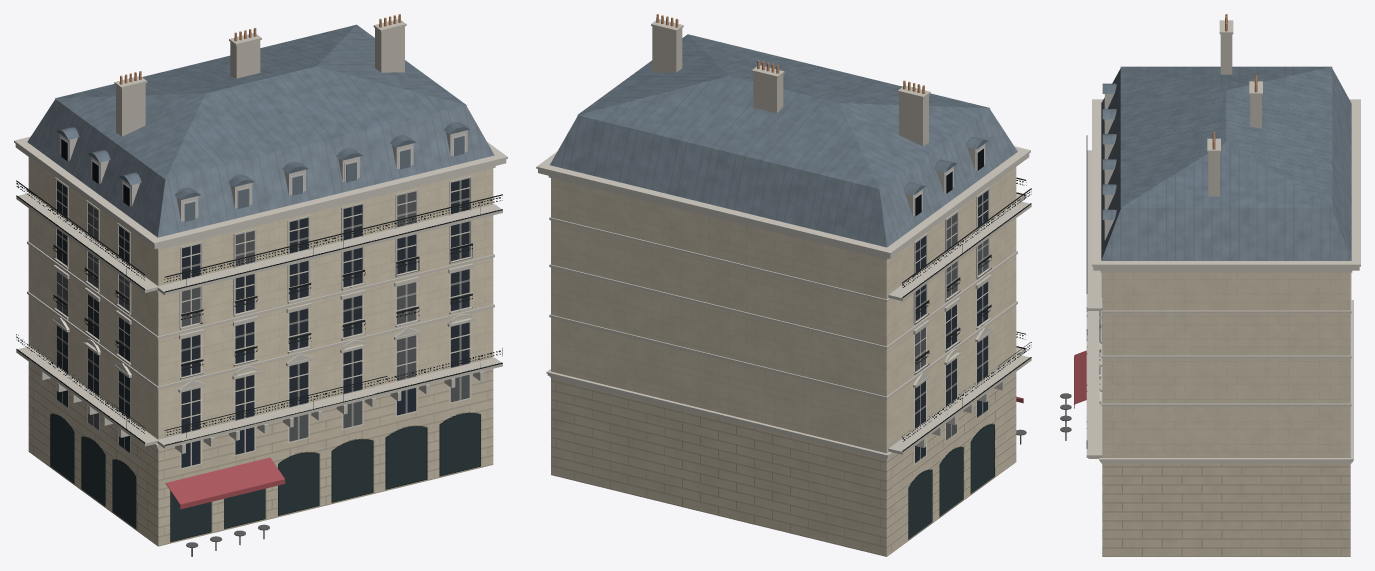
Rendered from building_haussmann.glb.
3 views of the same model, side by side, from view 1: azimuth 30°, elevation 25°; view 2: azimuth 150°, elevation 25°; view 3: azimuth 270°, elevation 25° (orthographic). The views are drawn at different scales.
Parts seen in each view (by area): view 1: body; view 2: body; view 3: body.
Part boxes in pixels (x1,y1,x2,y2): body: (14, 14, 507, 556); body: (536, 14, 1031, 556); body: (1060, 14, 1360, 556).
Bounding box in the file's own units: 23.97 × 26.59 × 18.17.
4 materials, 1 textured.
